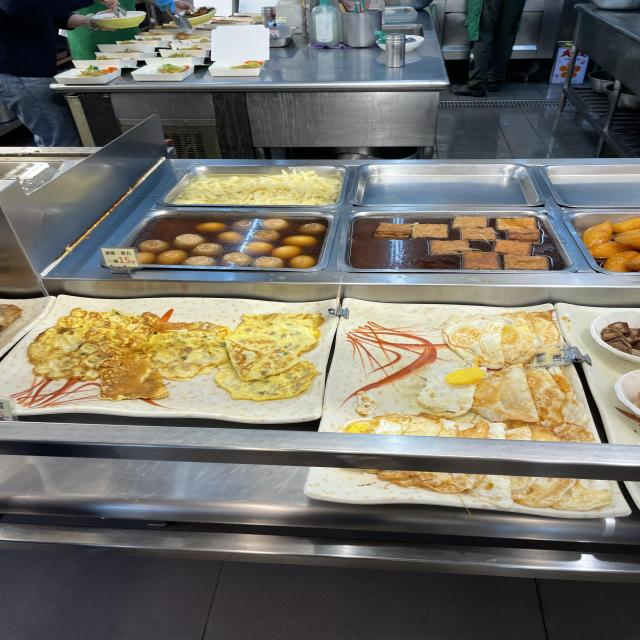braised egg: (171, 221, 306, 266)
